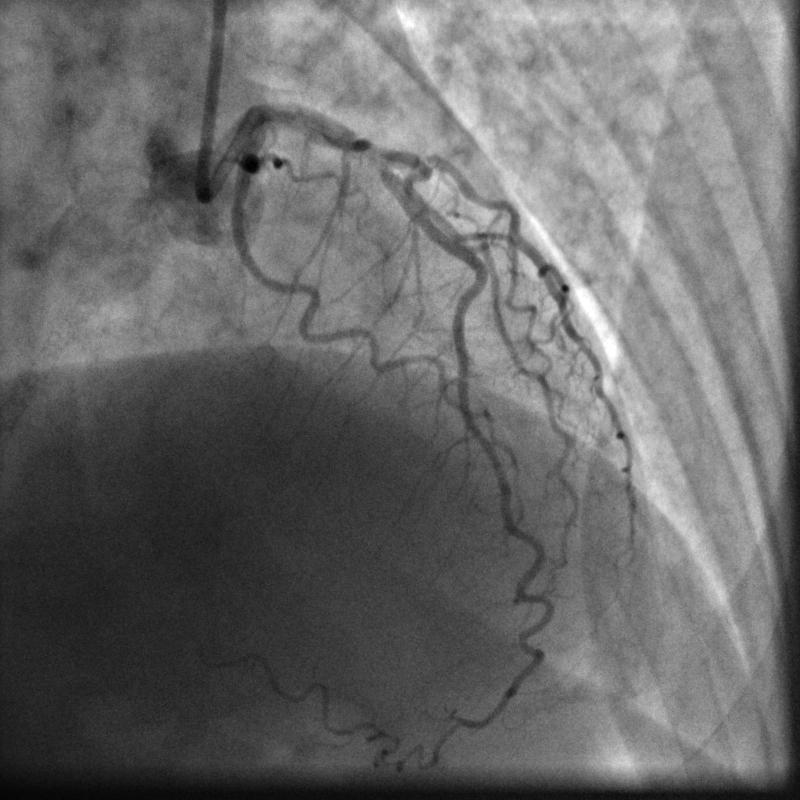Stenosis: (367, 138, 384, 172)
